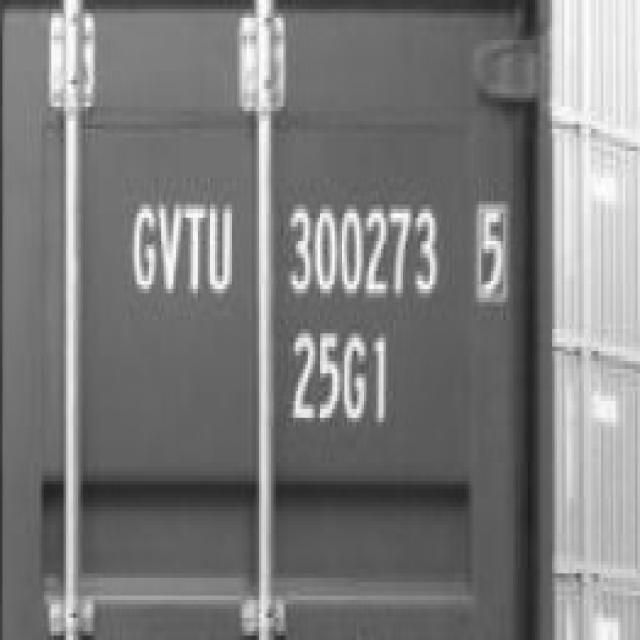dv: (468, 195, 516, 305)
owner: (129, 184, 238, 308)
serial: (277, 190, 444, 309)
size: (280, 323, 406, 432)
